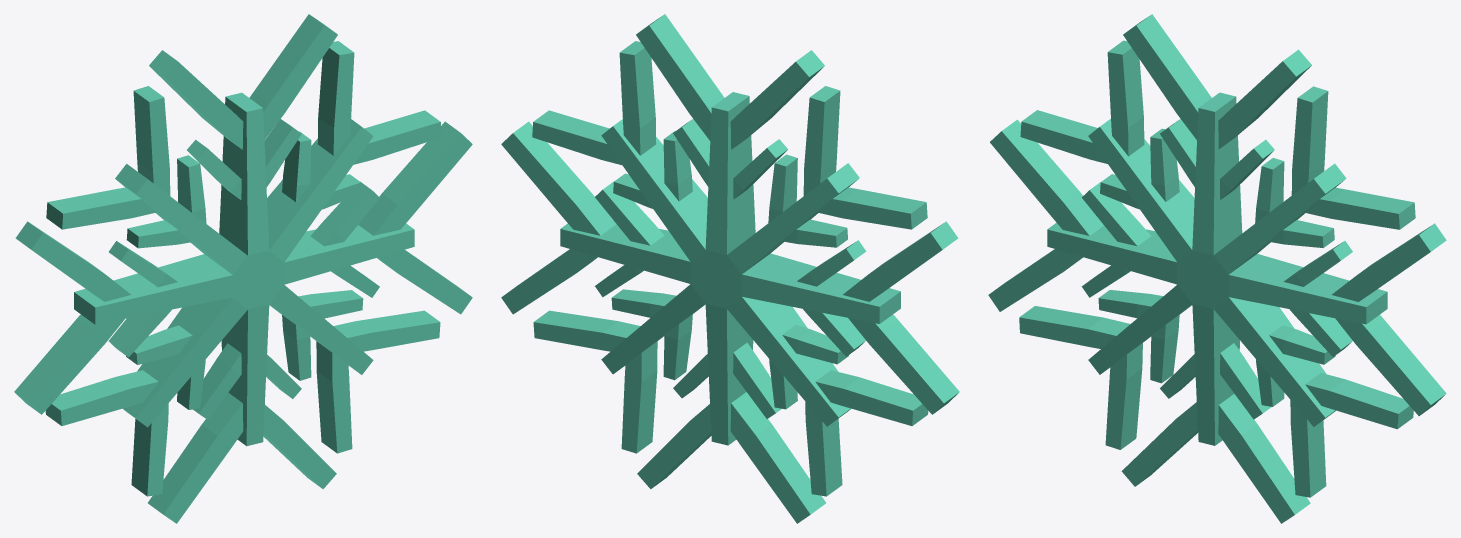
File: quaternius-rpg-items-snowflake-1.glb
3 views of the same model, side by side, from view 1: azimuth 30°, elevation 25°; view 2: azimuth 150°, elevation 25°; view 3: azimuth 330°, elevation 25° (orthographic).
Parts seen in each view (by area): view 1: Snowflake1; view 2: Snowflake1; view 3: Snowflake1.
Part boxes in pixels (x1=…): Snowflake1: x1=14, y1=14, x2=472, y2=523; Snowflake1: x1=501, y1=14, x2=959, y2=523; Snowflake1: x1=988, y1=14, x2=1446, y2=523.
Bounding box in the file's own units: 0.8962 × 0.8962 × 0.1009.
